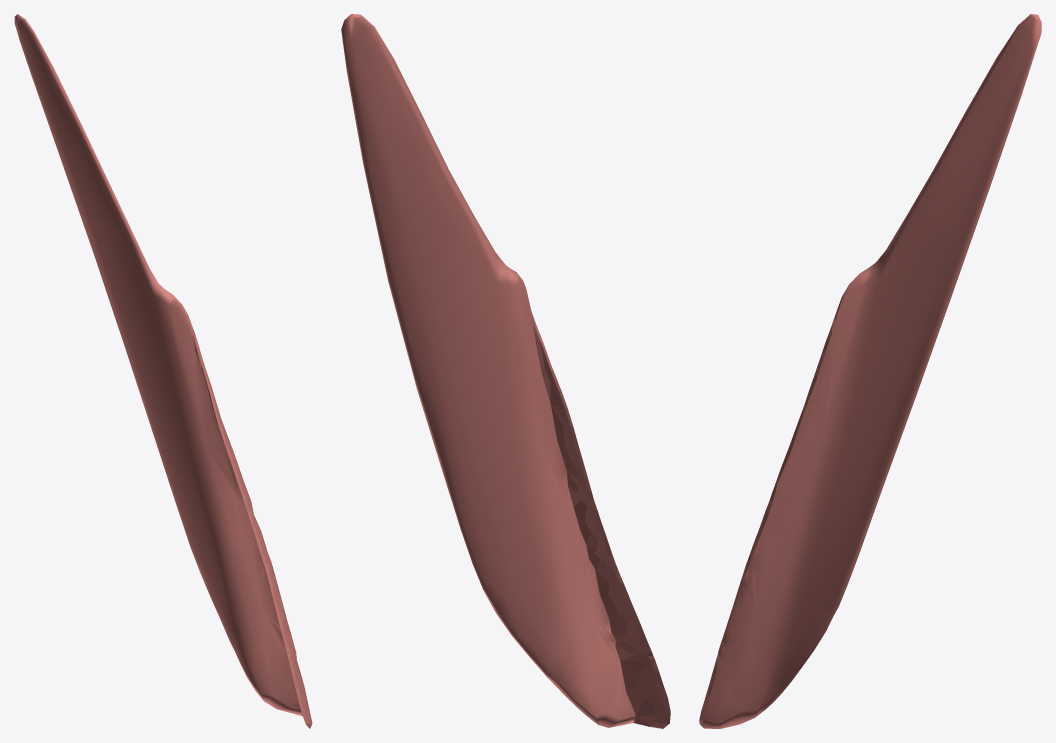
3 renders of one model, left to right at view 1: azimuth 90°, elevation 25°; view 2: azimuth 150°, elevation 25°; view 3: azimuth 270°, elevation 25°, orthographic. The views are drawn at different scales.
Visible parts, largest first — view 1: ZA_0fdc70e742faaee7; view 2: ZA_0fdc70e742faaee7; view 3: ZA_0fdc70e742faaee7.
Part boxes in pixels (x1,y1,x2,y2): ZA_0fdc70e742faaee7: [14, 14, 312, 728]; ZA_0fdc70e742faaee7: [341, 14, 670, 728]; ZA_0fdc70e742faaee7: [699, 14, 1041, 728].
Size of the model in its own units: 0.0157 by 0.0778 by 0.0316.
